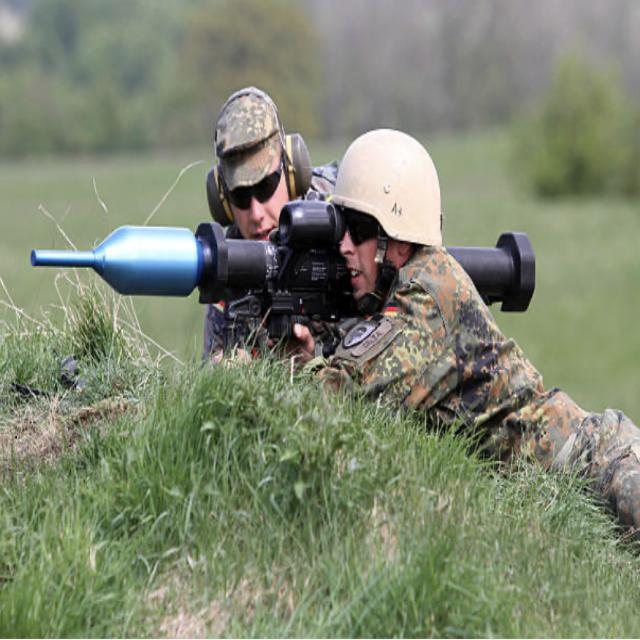bazooka: (25, 199, 538, 348)
